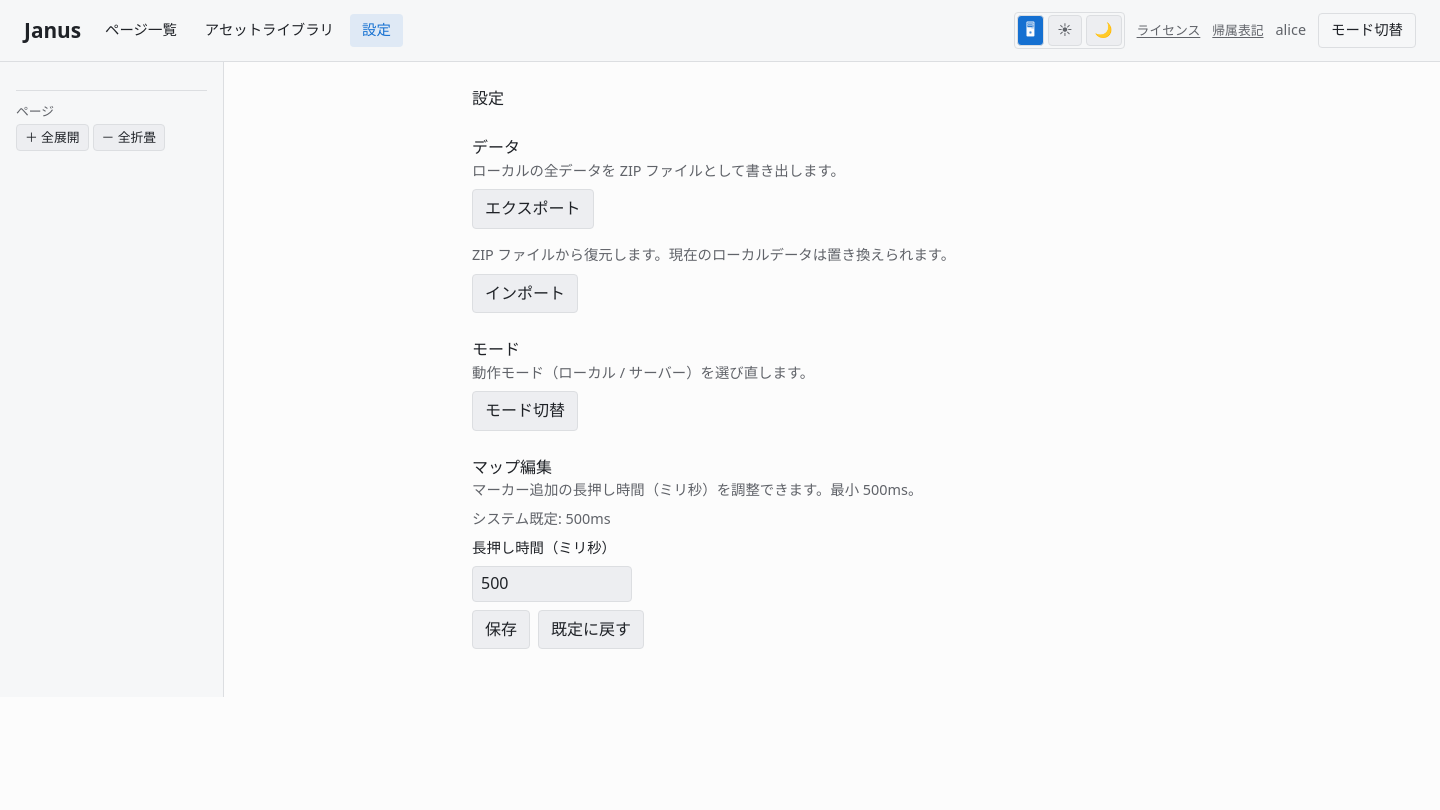
Scenario: SettingsPage（ローカルモード） › エクスポート押下で exportAndDownload が呼ばれる
Check: the heading "設定" is shown, box [472, 87, 504, 109]
Click the button "エクスポート": (533, 209) [472, 189, 594, 229]
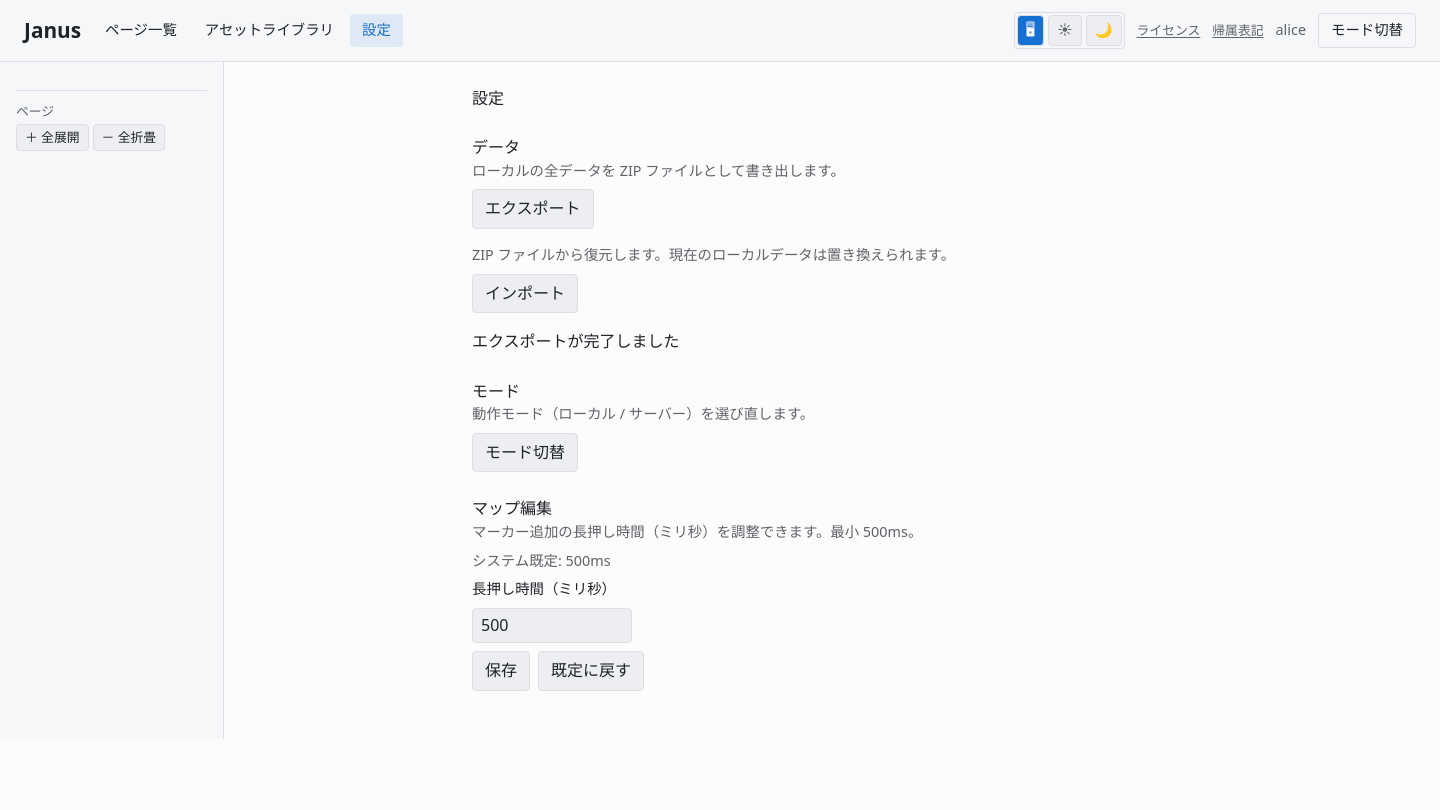
Check: the text "エクスポートが完了しました" is shown, box [472, 330, 680, 352]
